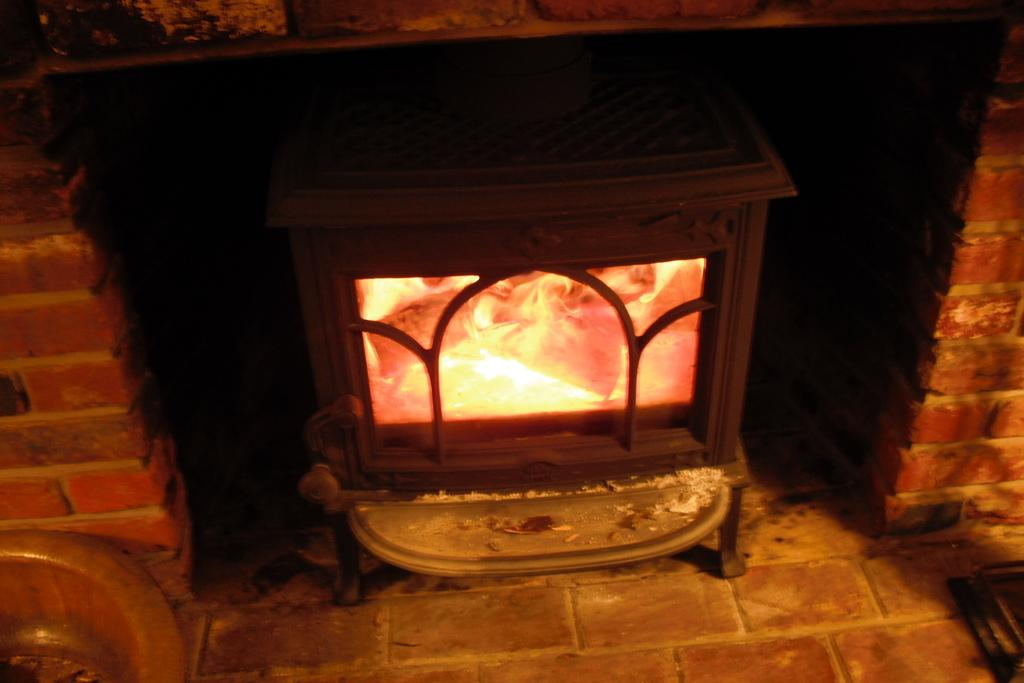Fire: (355, 271, 706, 417)
